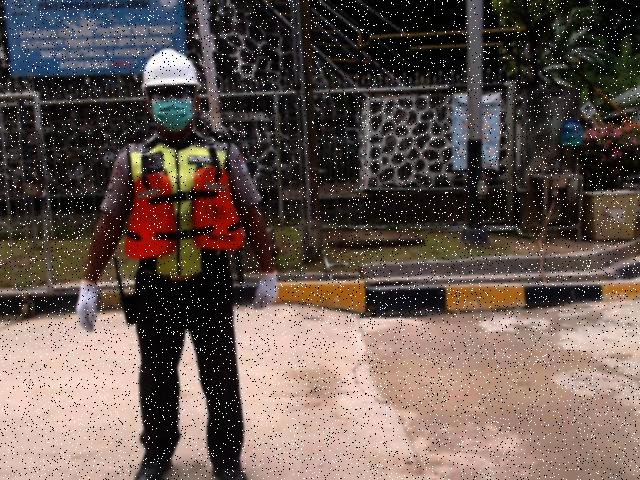glasses: (152, 85, 191, 98)
gloves: (74, 278, 101, 335), (251, 270, 282, 314)
helmet: (141, 42, 200, 88)
mask: (155, 101, 191, 129)
safety-shoes: (131, 449, 175, 479), (209, 455, 250, 479)
vest: (122, 163, 245, 262)
